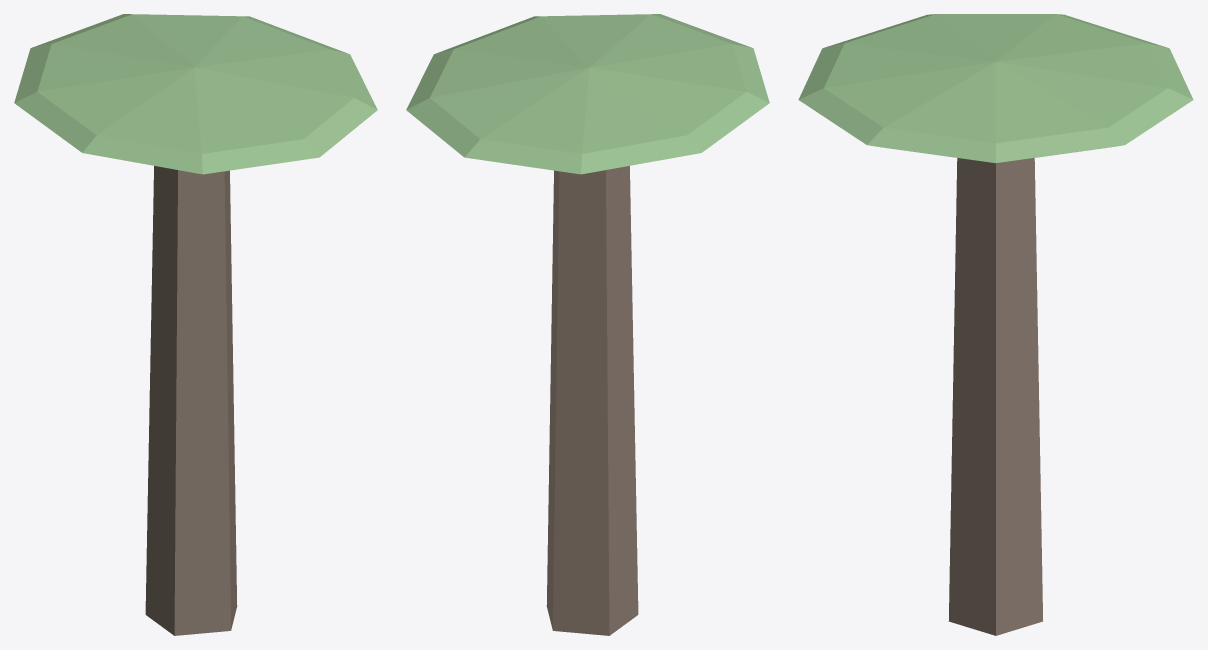
Rendered from tree-palm-a-far.glb.
3 renders of one model, left to right at view 1: azimuth 30°, elevation 25°; view 2: azimuth 150°, elevation 25°; view 3: azimuth 270°, elevation 25°, orthographic.
Parts seen in each view (by area): view 1: tree-palm-a-far; view 2: tree-palm-a-far; view 3: tree-palm-a-far.
Part boxes in pixels (x1,y1,x2,y2): tree-palm-a-far: (14, 14, 377, 635); tree-palm-a-far: (406, 14, 769, 635); tree-palm-a-far: (798, 14, 1193, 635).
Bounding box in the file's own units: 0.5754 × 1 × 0.6472.
